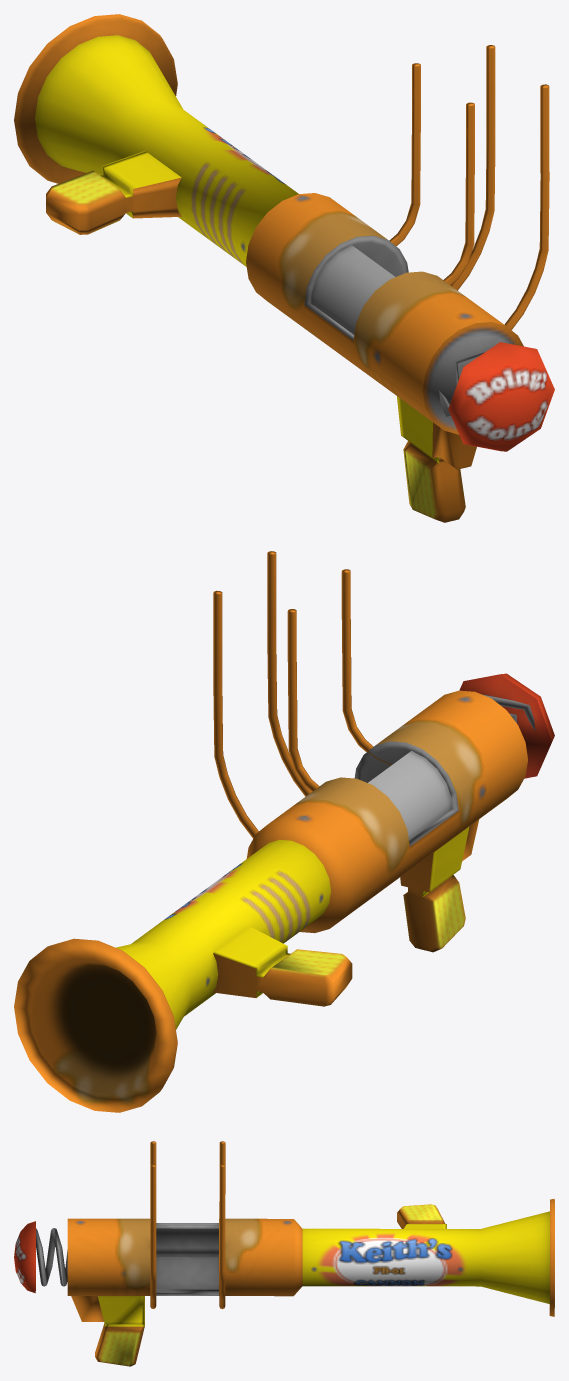
The model's file is pblauncher_reload.obj.
3 views of the same model, one above another, from view 1: azimuth 30°, elevation 25°; view 2: azimuth 150°, elevation 25°; view 3: azimuth 270°, elevation 25° (orthographic). The views are drawn at different scales.
Visible parts, largest first — view 1: pblauncher_reload; view 2: pblauncher_reload; view 3: pblauncher_reload.
Part boxes in pixels (bbox=[...]): pblauncher_reload: bbox=[14, 14, 554, 522]; pblauncher_reload: bbox=[14, 551, 554, 1112]; pblauncher_reload: bbox=[14, 1141, 554, 1366].
Bounding box in the file's own units: 3.02 × 3.83 × 7.78.
Materials: 1 (1 with a texture image).
